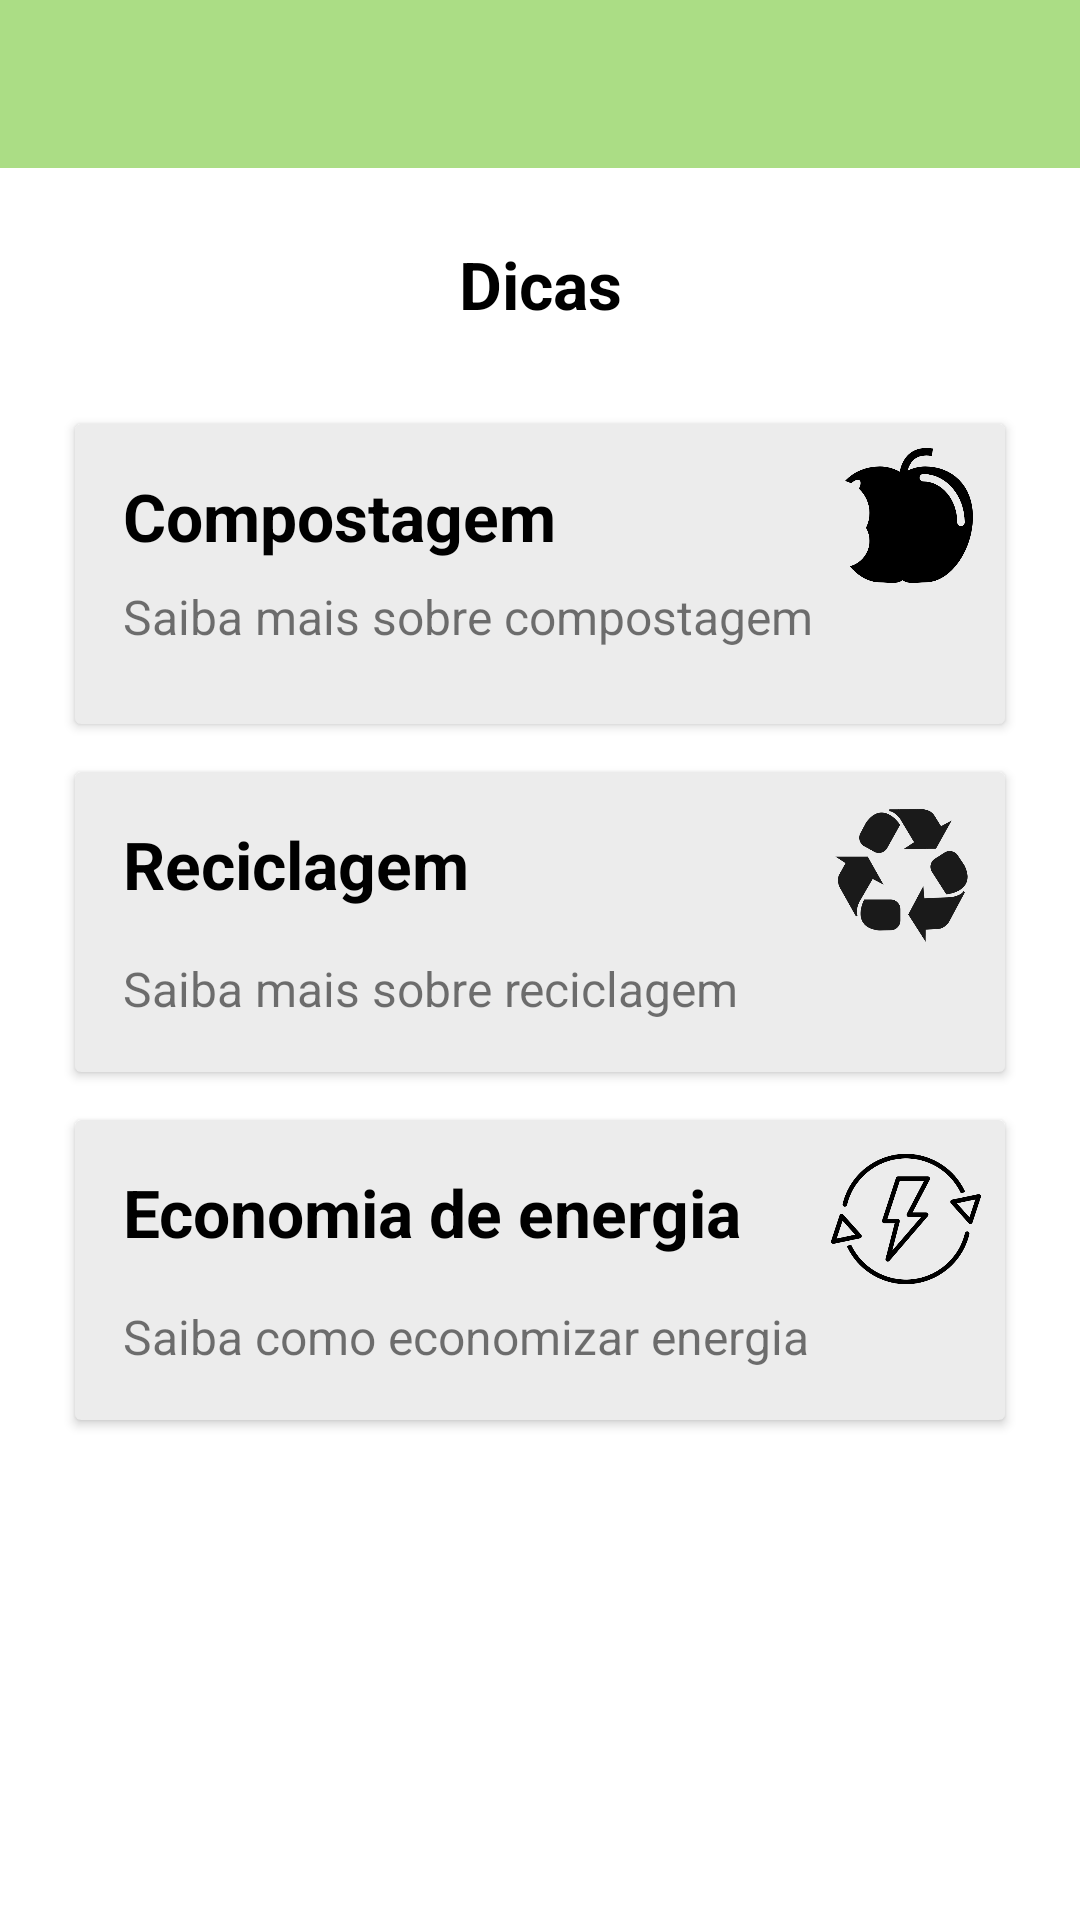

Icon bounding boxes for this 1080×1920 phone screenshot, format (x1, y1, x2, y2):
maca: (845, 448, 973, 583)
